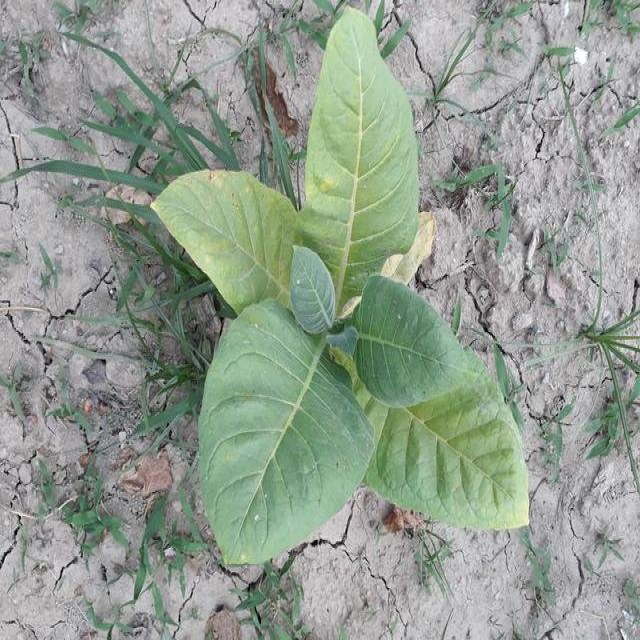crop: (148, 7, 536, 562)
